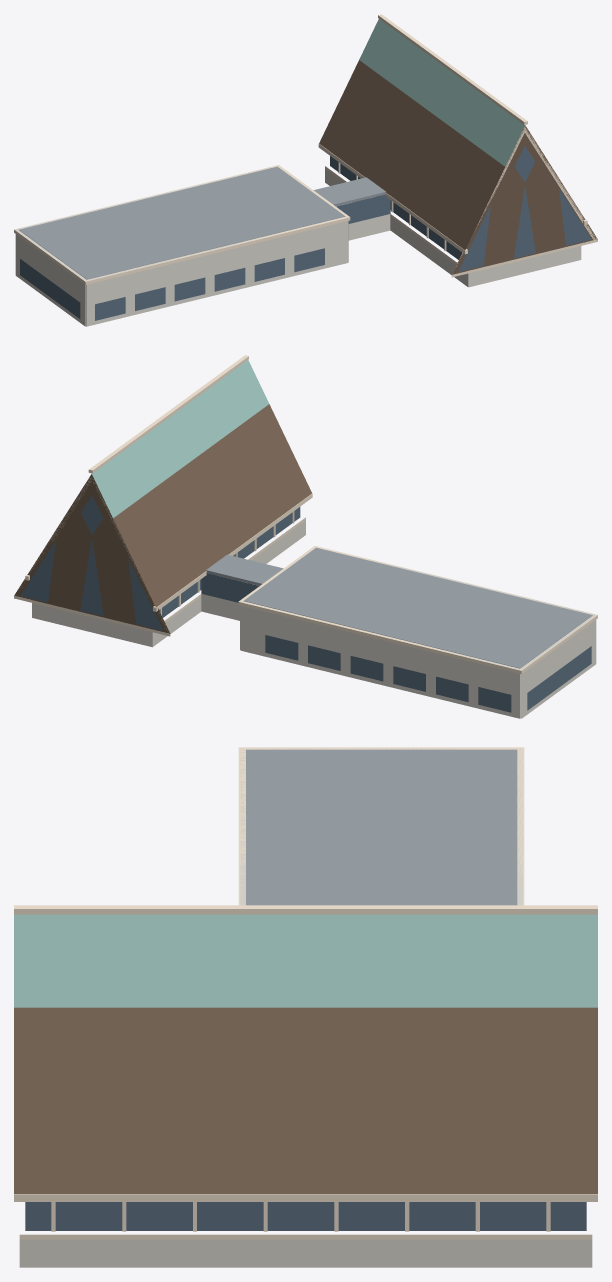
The model's file is van-maritime-museum.glb.
The picture shows the model from 3 angles, top to bottom: view 1: azimuth 30°, elevation 25°; view 2: azimuth 150°, elevation 25°; view 3: azimuth 270°, elevation 25°; orthographic projection. The views are drawn at different scales.
Parts seen in each view (by area): view 1: Vancouver Maritime Museum; view 2: Vancouver Maritime Museum; view 3: Vancouver Maritime Museum.
Part boxes in pixels (x1=…): Vancouver Maritime Museum: x1=14, y1=14, x2=597, y2=326; Vancouver Maritime Museum: x1=14, y1=355, x2=597, y2=718; Vancouver Maritime Museum: x1=14, y1=747, x2=597, y2=1267.
Size of the model in its own units: 74.63 by 23.85 by 41.3.
